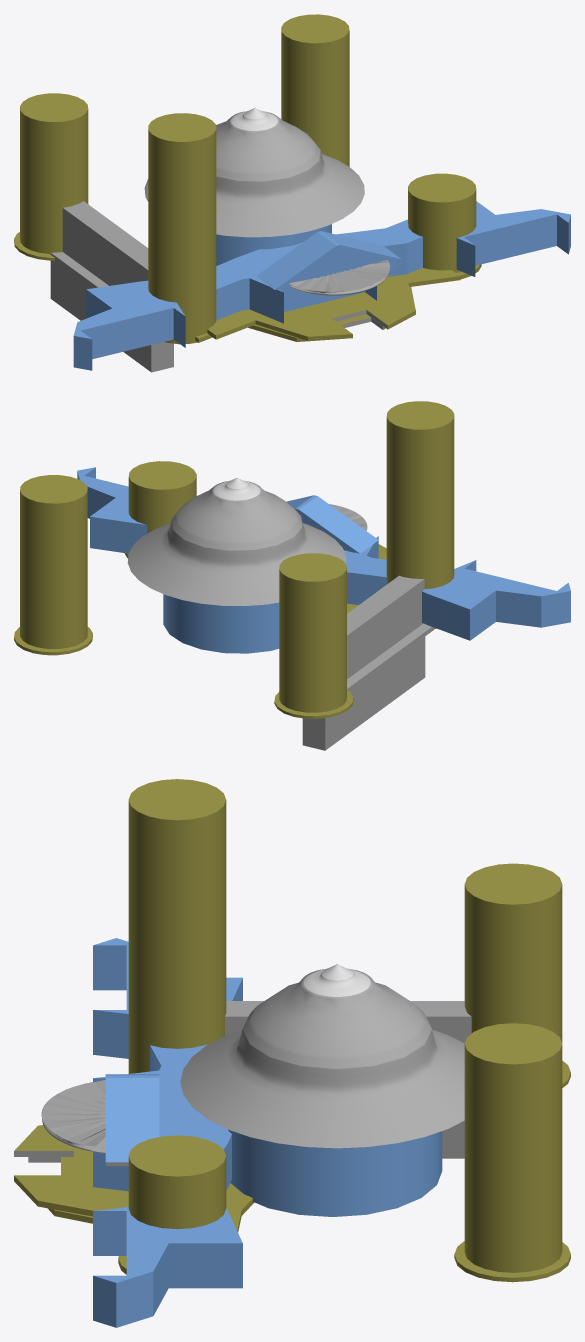
Rendered from EmCity_palace.fbx.
The picture shows the model from 3 angles, top to bottom: view 1: azimuth 30°, elevation 25°; view 2: azimuth 150°, elevation 25°; view 3: azimuth 270°, elevation 25°; orthographic projection. The views are drawn at different scales.
Parts seen in each view (by area): view 1: pasted__pCylinder2 (×4), pEastWing, pRoofTop, pWallS, pPalaceFirstLanding, pCylinder2, pGreekBitE, pOverhang, pPalaceFound, pRoofUnder; view 2: pasted__pCylinder2 (×4), pRoofTop, pEastWing, pWallS, pCylinder2, pGreekBitE, pasted__pasted__pCylinder1 (×2), pRoofUnder; view 3: pasted__pCylinder2 (×4), pRoofTop, pEastWing, pCylinder2, pPalaceFirstLanding, pGreekBitE, pOverhang, pWallS, pRoofUnder, pasted__pasted__pCylinder1, pPalaceFound.
Part boxes in pixels (box(x1,y1,x2,y2)): pasted__pCylinder2 (×4): box(20, 14, 349, 344); pEastWing: box(73, 201, 570, 370); pRoofTop: box(144, 111, 364, 237); pWallS: box(50, 201, 173, 372); pPalaceFirstLanding: box(207, 268, 460, 340); pCylinder2: box(408, 173, 476, 272); pGreekBitE: box(256, 231, 401, 292); pOverhang: box(289, 260, 389, 295); pPalaceFound: box(195, 287, 414, 342); pRoofUnder: box(231, 108, 278, 130); pasted__pCylinder2 (×4): box(20, 401, 454, 712); pRoofTop: box(127, 481, 346, 606); pEastWing: box(77, 467, 570, 640); pWallS: box(302, 575, 433, 750); pCylinder2: box(128, 461, 196, 533); pGreekBitE: box(286, 495, 378, 553); pasted__pasted__pCylinder1 (×2): box(14, 627, 353, 718); pRoofUnder: box(213, 478, 260, 500); pasted__pCylinder2 (×4): box(128, 779, 562, 1272); pRoofTop: box(180, 969, 464, 1148); pEastWing: box(93, 938, 242, 1327); pCylinder2: box(128, 1135, 226, 1229); pPalaceFirstLanding: box(14, 1125, 128, 1216); pGreekBitE: box(105, 1074, 159, 1166); pOverhang: box(41, 1080, 105, 1153); pWallS: box(225, 1001, 471, 1158); pRoofUnder: box(304, 964, 370, 996); pasted__pasted__pCylinder1: box(454, 1241, 570, 1282); pPalaceFound: box(28, 1157, 254, 1231).
Bounding box in the file's own units: 126 × 60.71 × 86.18.
